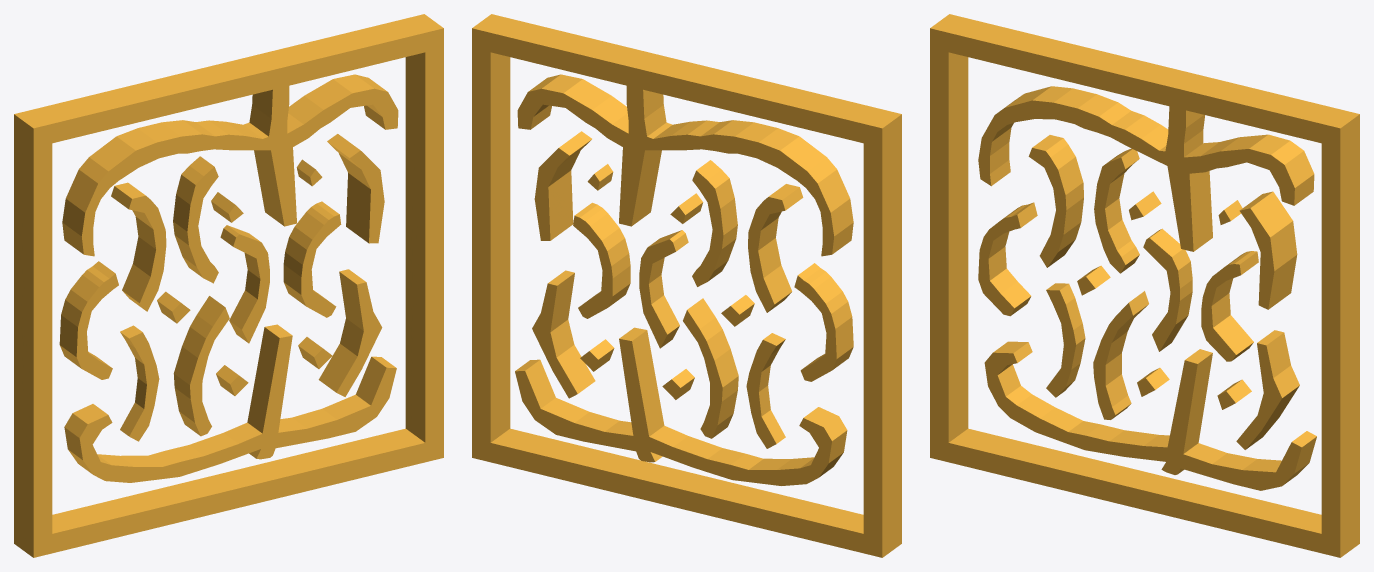
Rendered from Environment2D_Maze.dae.
3 views of the same model, side by side, from view 1: azimuth 30°, elevation 25°; view 2: azimuth 150°, elevation 25°; view 3: azimuth 330°, elevation 25° (orthographic).
Parts seen in each view (by area): view 1: instance_0 (×15); view 2: instance_0 (×15); view 3: instance_0 (×13).
Boxes of the visible parts, bbox=[...] form: instance_0 (×15): bbox=[14, 14, 443, 557]; instance_0 (×15): bbox=[472, 14, 901, 557]; instance_0 (×13): bbox=[930, 14, 1359, 557].
Bounding box in the file's own units: 1.1 × 0.1063 × 1.1.
